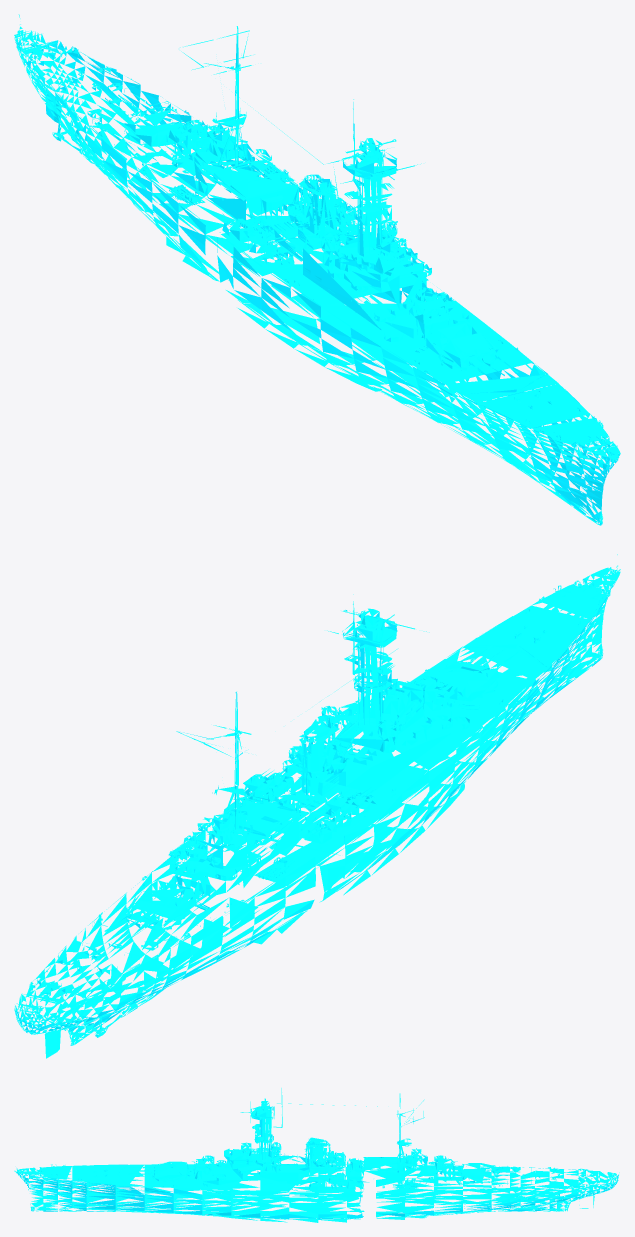
Rendered from PGSC528.glb.
3 views of the same model, one above another, from view 1: azimuth 30°, elevation 25°; view 2: azimuth 150°, elevation 25°; view 3: azimuth 270°, elevation 25° (orthographic). The views are drawn at different scales.
Parts seen in each view (by area): view 1: hull_mid, hull_bow, hull_stern, secondary_battery, main_battery, superstructure; view 2: hull_mid, hull_bow, hull_stern, secondary_battery, main_battery, superstructure, torpedo; view 3: hull_mid, hull_bow, hull_stern, main_battery, secondary_battery, superstructure.
Boxes of the visible parts, bbox=[...] form: hull_mid: bbox=[65, 26, 558, 464]; hull_bow: bbox=[477, 383, 620, 525]; hull_stern: bbox=[14, 14, 140, 159]; secondary_battery: bbox=[168, 120, 454, 323]; main_battery: bbox=[105, 91, 518, 378]; superstructure: bbox=[212, 122, 406, 252]; hull_mid: bbox=[61, 594, 558, 1022]; hull_bow: bbox=[478, 554, 620, 719]; hull_stern: bbox=[14, 945, 140, 1058]; secondary_battery: bbox=[168, 675, 454, 879]; main_battery: bbox=[104, 645, 518, 937]; superstructure: bbox=[203, 608, 406, 830]; torpedo: bbox=[168, 835, 294, 880]; hull_mid: bbox=[115, 1088, 543, 1222]; hull_bow: bbox=[14, 1164, 115, 1211]; hull_stern: bbox=[535, 1167, 619, 1211]; main_battery: bbox=[128, 1161, 520, 1180]; secondary_battery: bbox=[191, 1152, 457, 1189]; superstructure: bbox=[241, 1098, 421, 1164].
Size of the model in its own units: 1.6 by 3.33 by 14.73.
